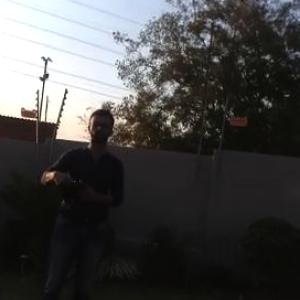follow: (32, 104, 130, 299)
